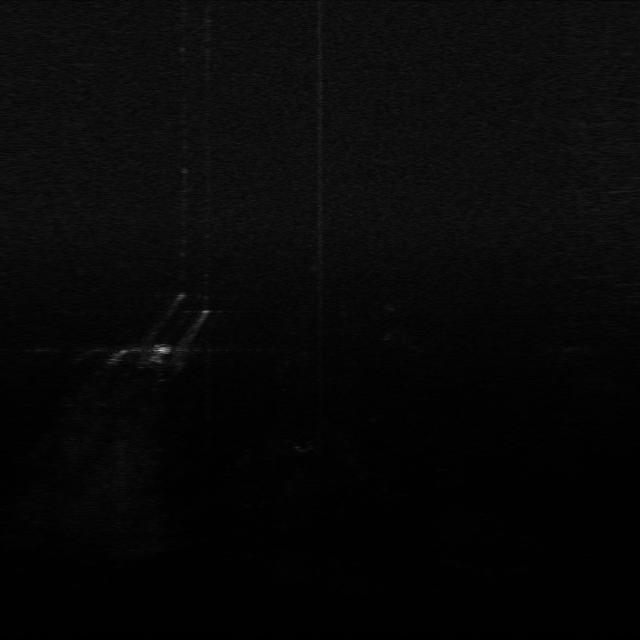rov: (150, 344, 172, 356)
